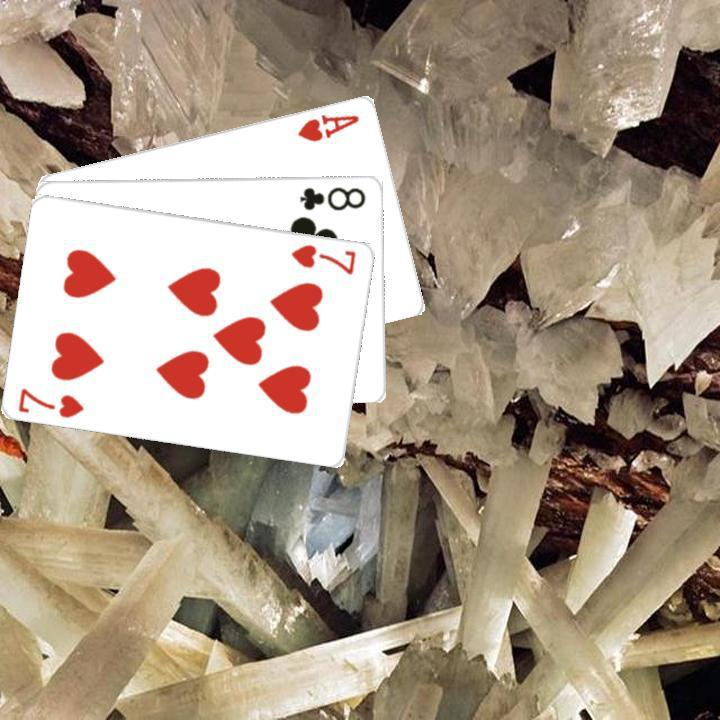7: (287, 239, 359, 276), (14, 383, 86, 420)
8: (296, 181, 368, 212)
A: (293, 109, 362, 143)
